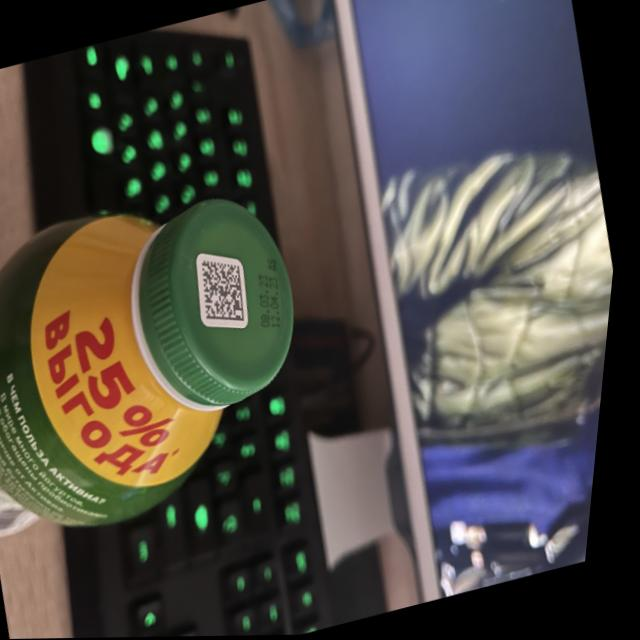datamatrix: (196, 250, 261, 333)
